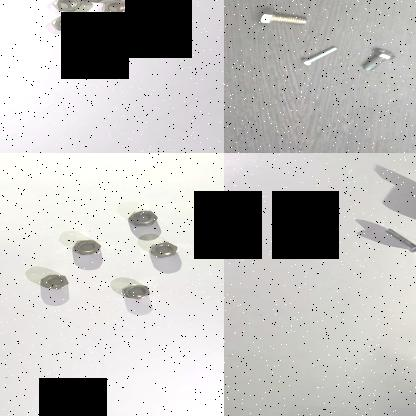Bolts: (254, 6, 312, 30), (354, 48, 396, 74), (378, 225, 416, 253), (298, 46, 342, 66)
NUTS: (66, 238, 102, 257), (123, 209, 160, 227), (116, 283, 152, 301), (82, 13, 112, 33), (50, 13, 80, 33), (148, 241, 180, 259), (96, 0, 130, 16), (36, 274, 70, 290), (47, 0, 85, 12), (76, 0, 110, 4)
